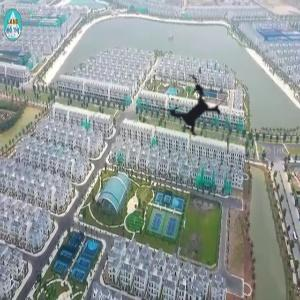drone: (140, 56, 248, 164)
